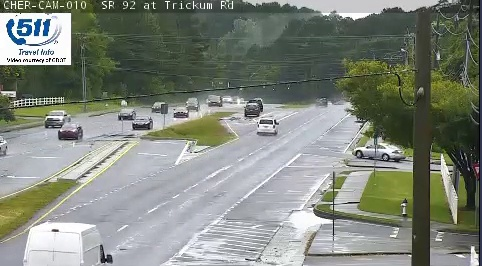car: (257, 117, 278, 134)
van: (24, 222, 109, 266)
